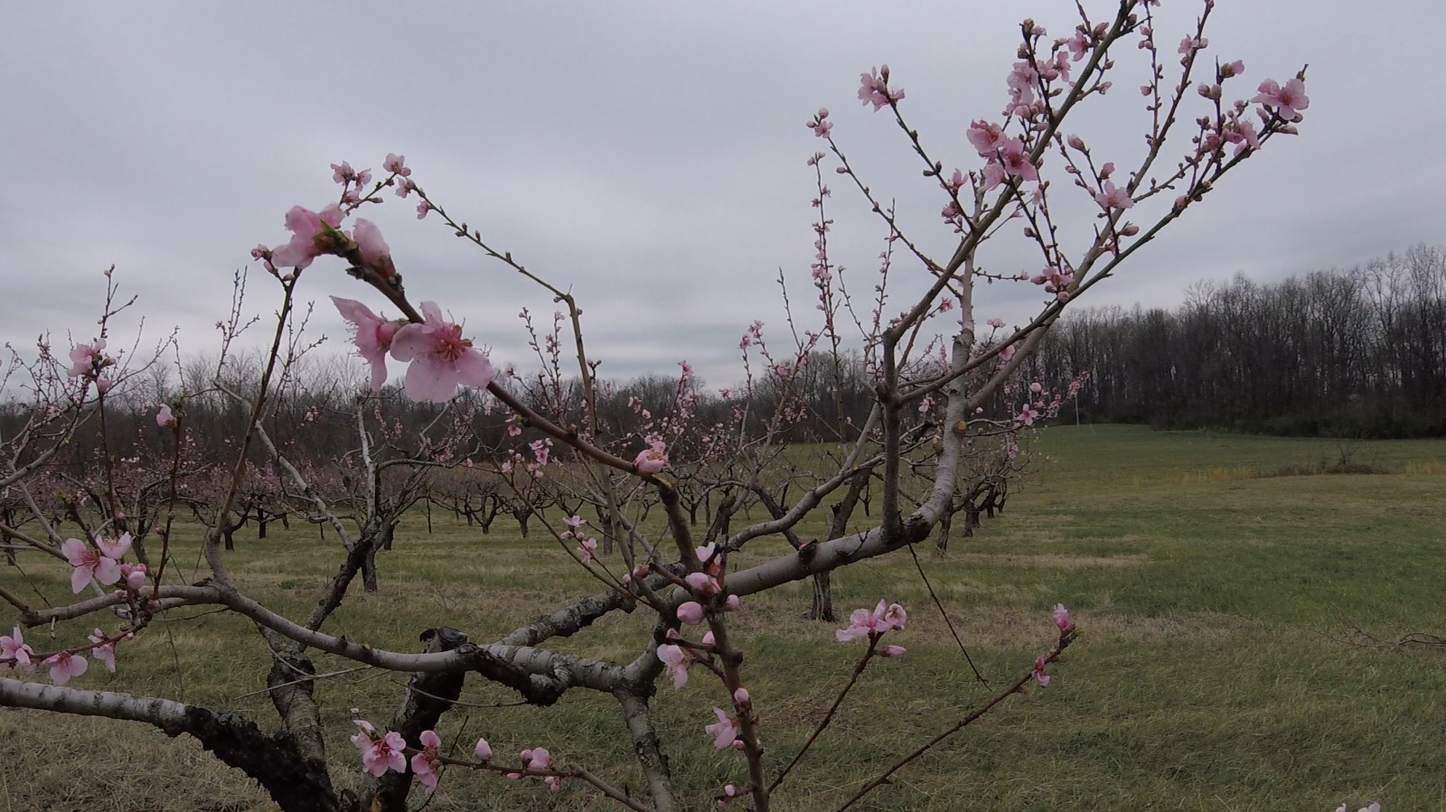flower: (330, 296, 498, 407), (1205, 78, 1310, 159), (61, 530, 155, 601), (269, 203, 347, 280), (967, 119, 1039, 192), (995, 60, 1047, 124), (836, 600, 907, 641), (859, 54, 906, 113), (353, 219, 399, 278), (352, 730, 407, 777), (66, 329, 107, 386), (412, 731, 445, 794), (705, 706, 746, 753), (1086, 179, 1136, 215), (634, 432, 674, 474), (1035, 51, 1078, 90), (0, 624, 36, 670), (42, 651, 89, 686), (383, 154, 416, 199), (658, 644, 688, 692), (1052, 26, 1089, 62), (1031, 265, 1075, 291), (807, 114, 845, 140), (346, 169, 372, 206), (1178, 34, 1208, 64), (529, 432, 553, 466), (97, 367, 124, 395), (92, 642, 116, 673), (521, 748, 552, 772), (1013, 405, 1046, 426), (331, 161, 356, 186), (945, 168, 969, 194), (677, 602, 704, 624), (1054, 604, 1075, 632), (1056, 285, 1086, 303), (498, 414, 521, 437), (473, 738, 494, 761), (684, 574, 713, 590), (156, 404, 177, 426), (1220, 61, 1245, 79), (570, 546, 593, 564), (696, 542, 716, 562), (353, 721, 375, 734), (417, 201, 431, 220), (563, 516, 587, 527), (1068, 134, 1084, 150), (999, 346, 1016, 361), (735, 688, 750, 705), (89, 629, 105, 644), (887, 646, 907, 658), (1031, 26, 1047, 40), (728, 595, 745, 607), (582, 538, 597, 550), (1103, 163, 1115, 175), (67, 386, 75, 396), (1136, 181, 1141, 188), (742, 603, 747, 609), (1284, 134, 1296, 135), (1039, 181, 1042, 185)
